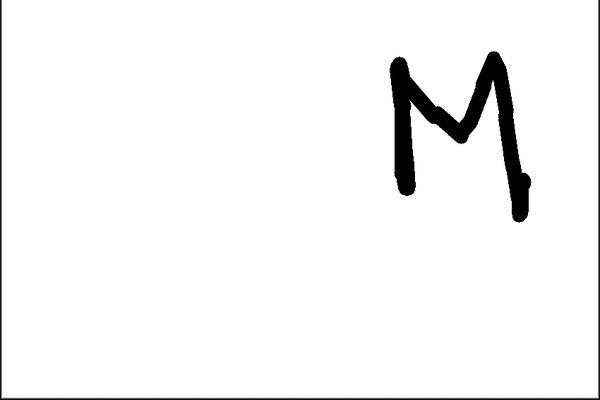M: (384, 46, 532, 223)
